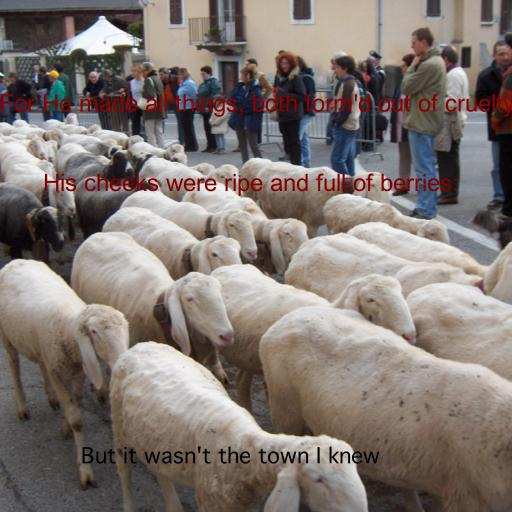Arial: (43, 173, 459, 196)
Geneva: (80, 446, 380, 464)
SignPainter: (0, 94, 512, 117)
